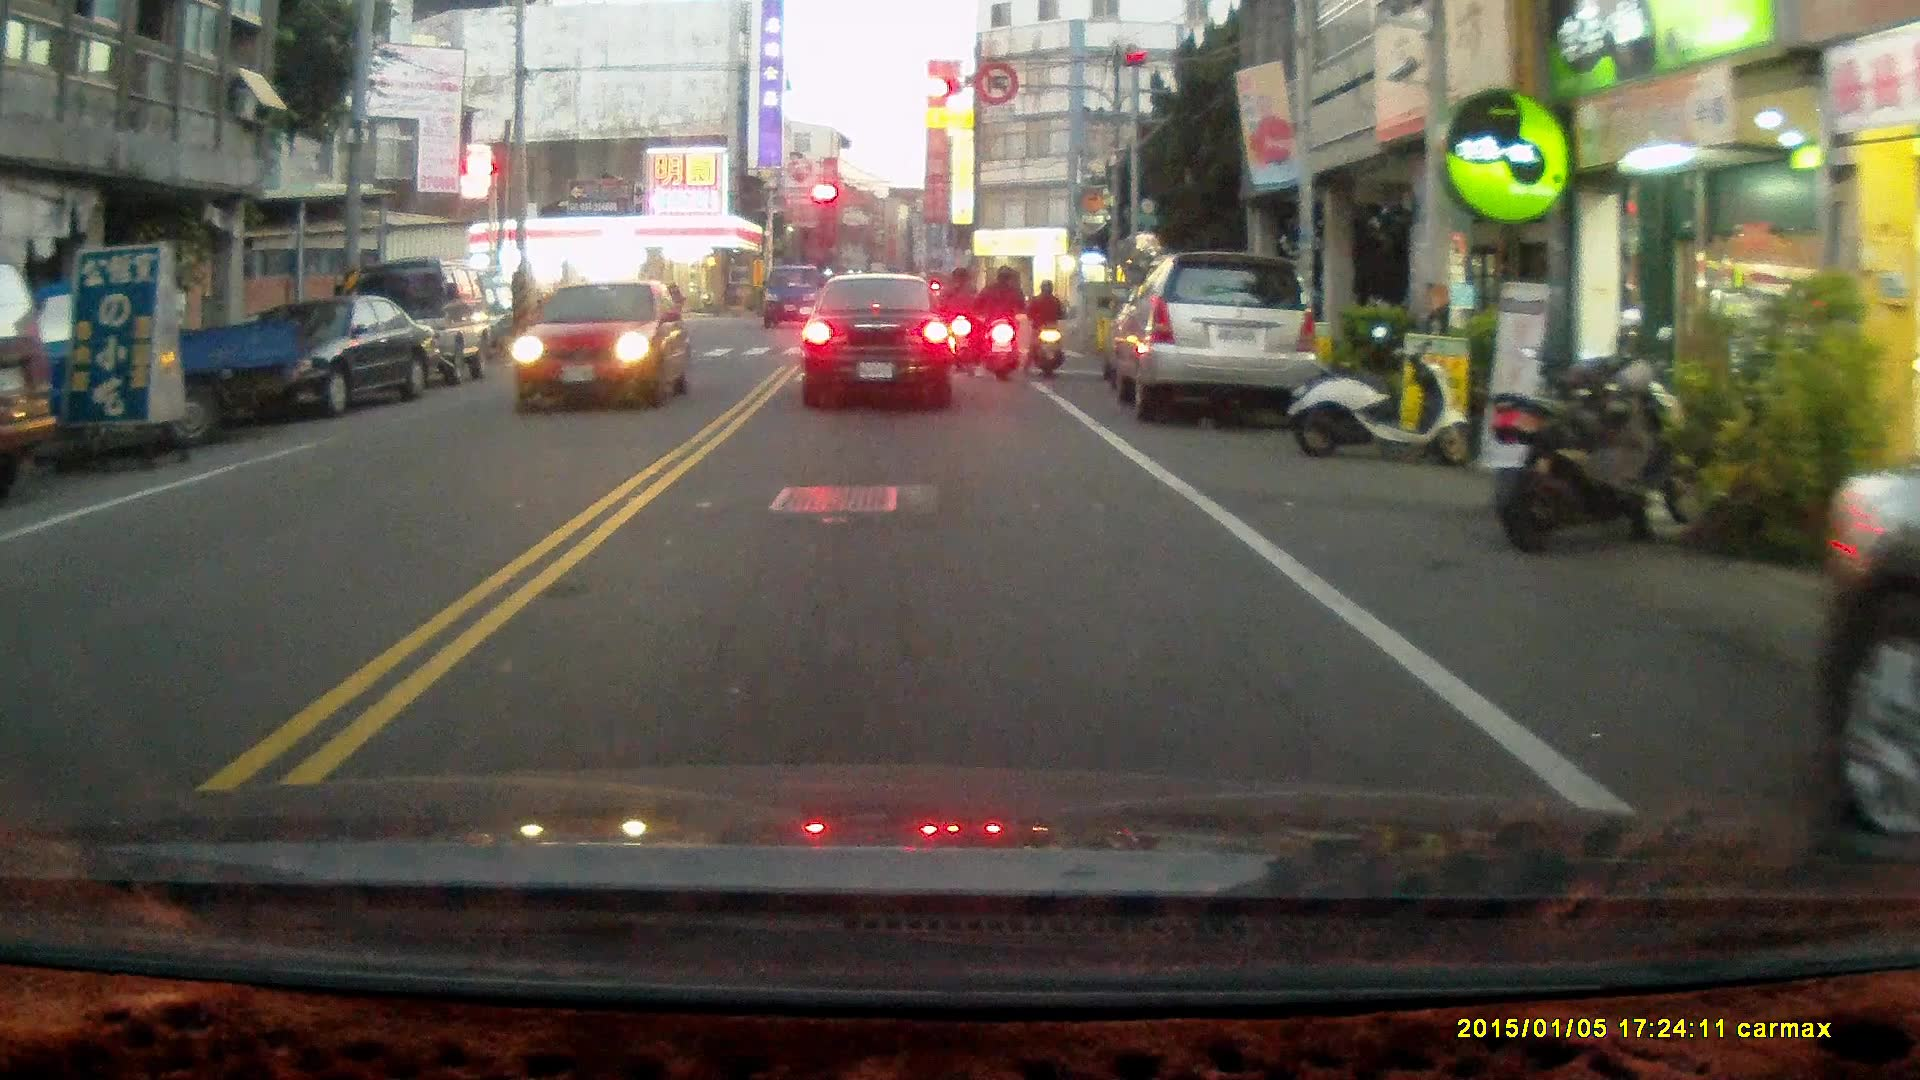rider: (970, 265, 1025, 386), (1023, 278, 1067, 382), (935, 266, 976, 374)
vehicle: (1810, 452, 1920, 827), (1107, 251, 1325, 431), (202, 293, 436, 417), (507, 277, 689, 412), (799, 271, 953, 413), (339, 254, 494, 393), (1, 238, 66, 500)
